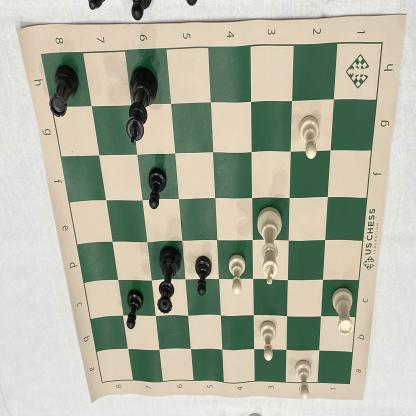black-king: (126, 63, 159, 150)
black-pawn: (145, 166, 169, 212), (124, 288, 146, 332), (192, 253, 213, 299)
black-queen: (155, 243, 184, 316)
black-rook: (48, 61, 80, 120)
white-king: (254, 205, 286, 288)
white-pawn: (298, 112, 323, 162), (292, 357, 316, 401), (226, 252, 249, 297), (257, 318, 279, 363)
white-rook: (329, 286, 357, 338)
